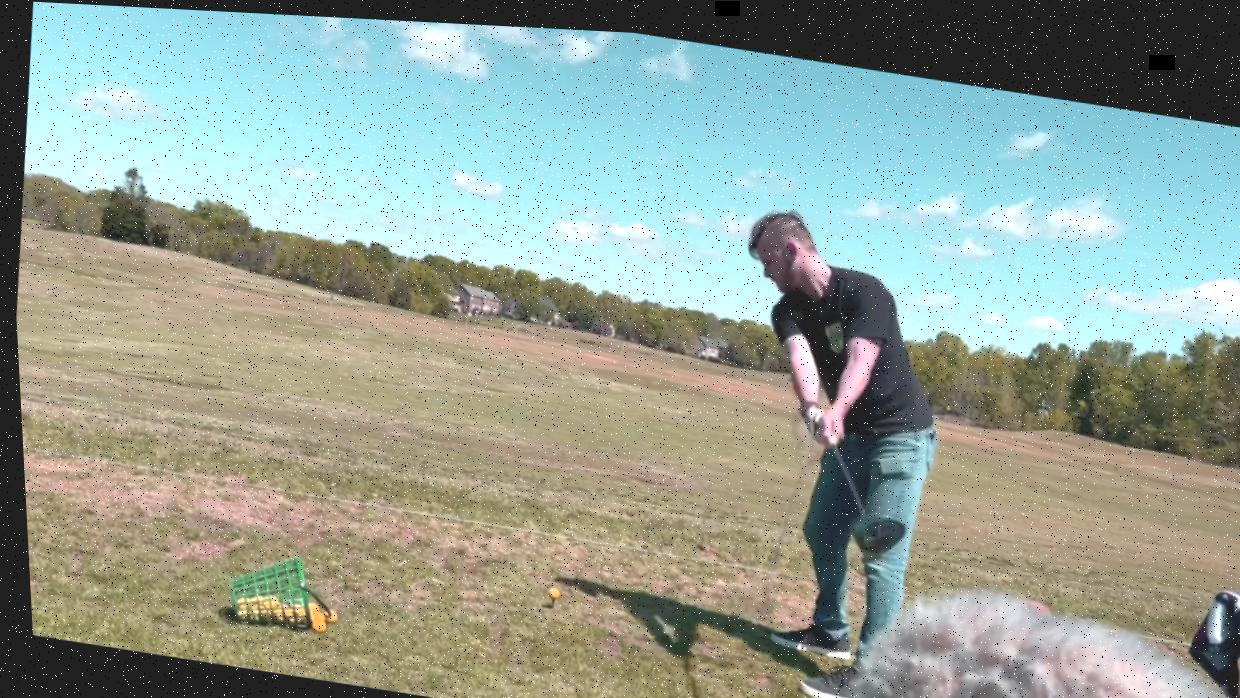ClubHead: (838, 495, 910, 564)
GolfBall: (539, 577, 557, 597)
